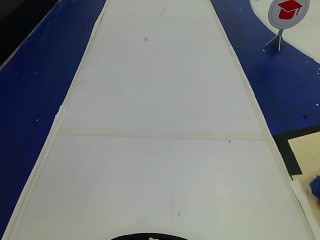school: (266, 0, 306, 39)
